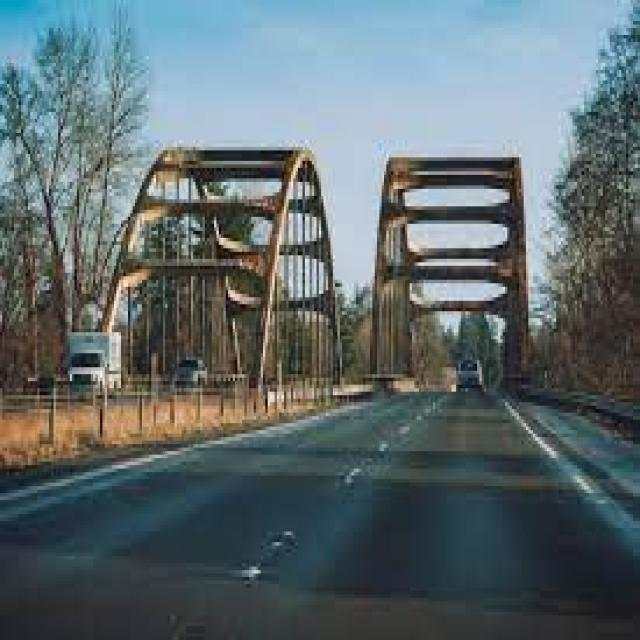Bridges: (92, 104, 640, 546)
